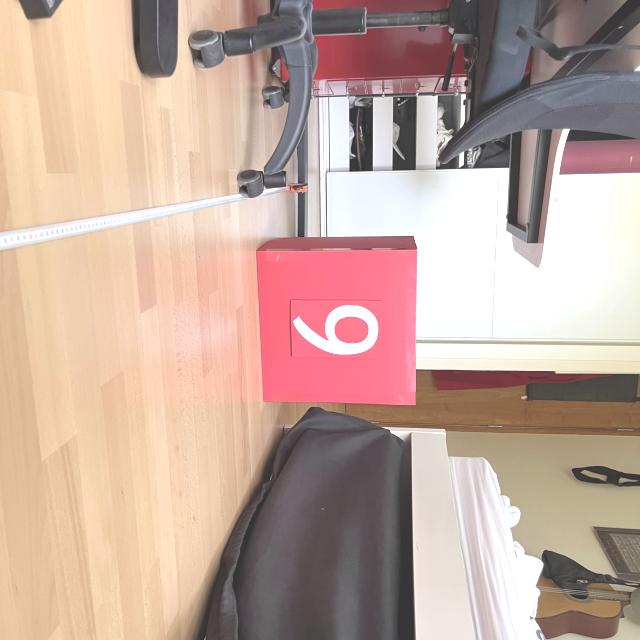box: (252, 232, 422, 407)
